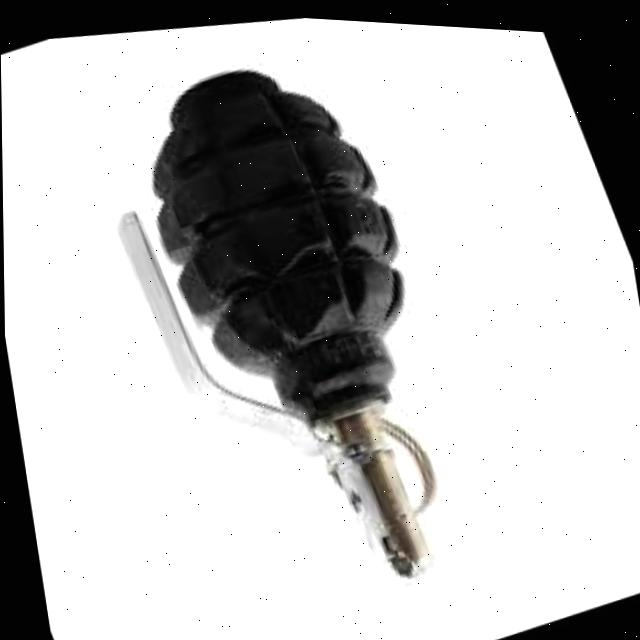grenade: (67, 7, 544, 640)
